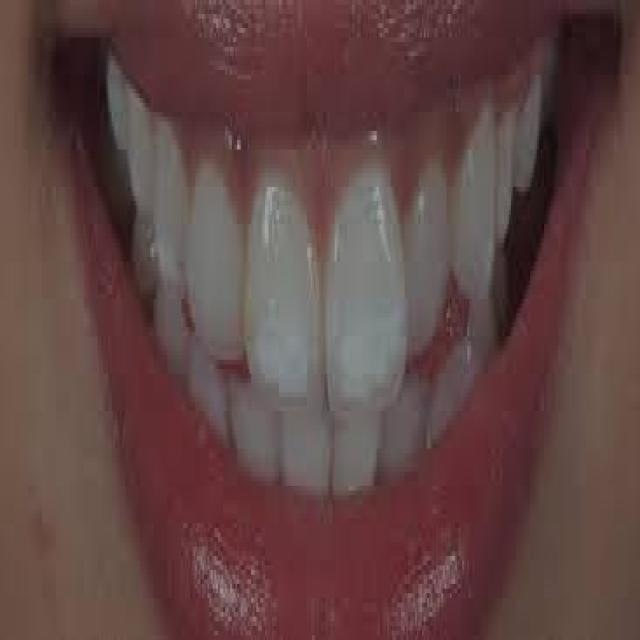tooth: (321, 196, 404, 411), (248, 182, 326, 402), (187, 164, 240, 369), (450, 150, 504, 304), (406, 192, 455, 355), (136, 215, 188, 360), (436, 308, 500, 421), (241, 378, 293, 491), (490, 103, 549, 196), (331, 402, 382, 495), (284, 397, 332, 495), (192, 360, 242, 444), (157, 122, 183, 276), (387, 383, 429, 472), (125, 84, 152, 215), (108, 60, 127, 164)
